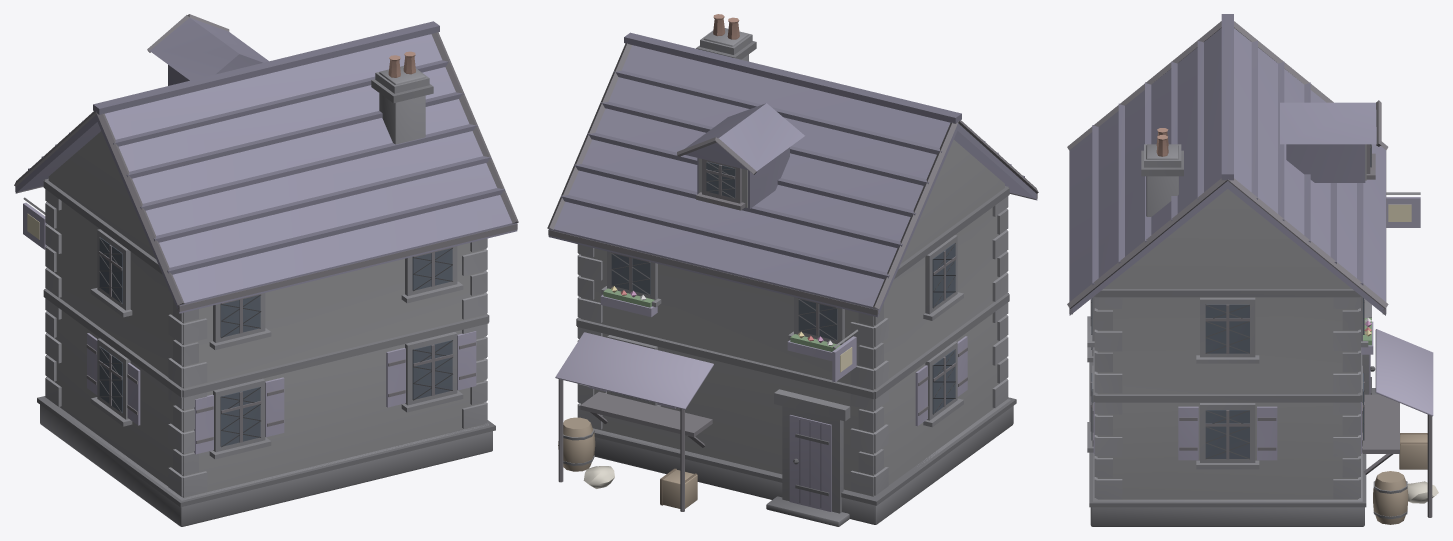
File: shop_storm.gltf
3 views of the same model, side by side, from view 1: azimuth 30°, elevation 25°; view 2: azimuth 150°, elevation 25°; view 3: azimuth 270°, elevation 25° (orthographic). The views are drawn at different scales.
Visible parts, largest first — view 1: Body; view 2: Body; view 3: Body.
Boxes of the visible parts, x1,y1,x2,y2 form: Body: [14, 14, 518, 526]; Body: [547, 14, 1038, 526]; Body: [1067, 14, 1438, 526].
Size of the model in its own units: 8.17 by 8.76 by 8.
